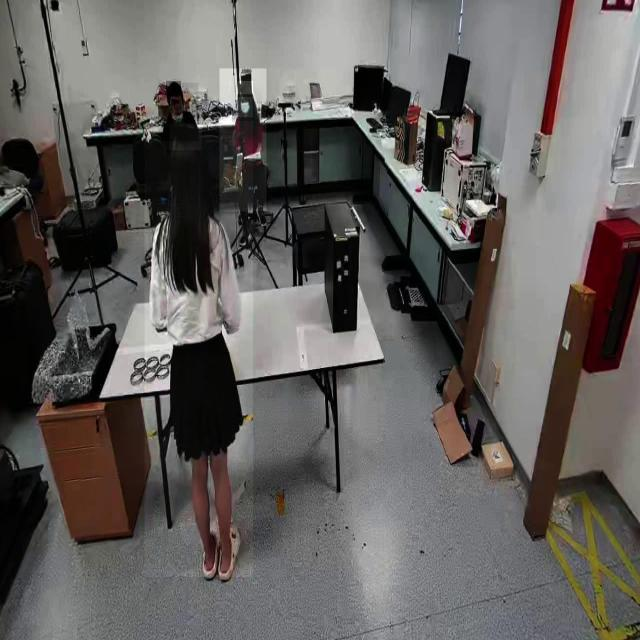face_mask: (239, 97, 253, 117)
head_nohelmet: (170, 124, 202, 151), (238, 81, 254, 95), (166, 81, 182, 93)
person: (144, 121, 253, 578), (219, 68, 267, 212), (158, 83, 199, 141)
